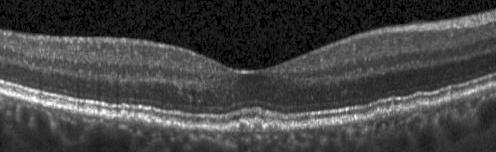retinal_drusen: (372, 110, 389, 120), (265, 124, 283, 133), (238, 121, 250, 133), (252, 121, 264, 133), (413, 104, 429, 113), (129, 116, 143, 126), (114, 113, 128, 122), (150, 119, 165, 127), (398, 109, 409, 116), (170, 121, 179, 129), (229, 125, 237, 133), (144, 121, 152, 127), (390, 110, 396, 117)
